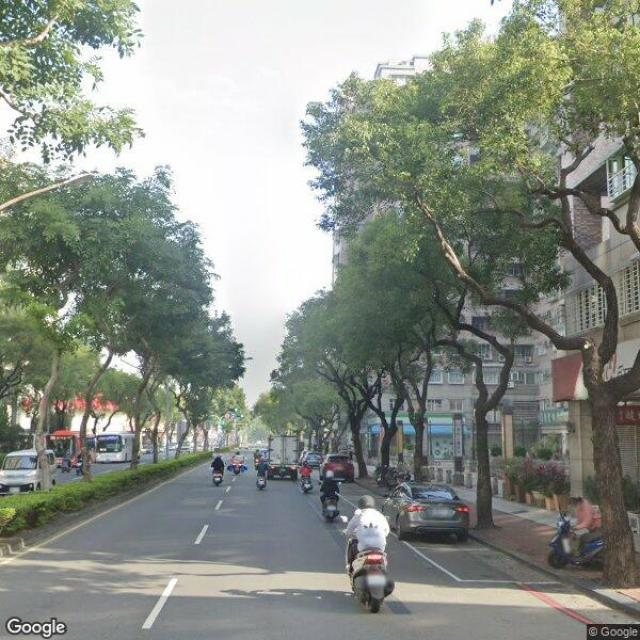Legalparking: (380, 482, 469, 540), (319, 454, 354, 480)
illegalparking: (556, 514, 602, 561), (268, 435, 300, 480)
